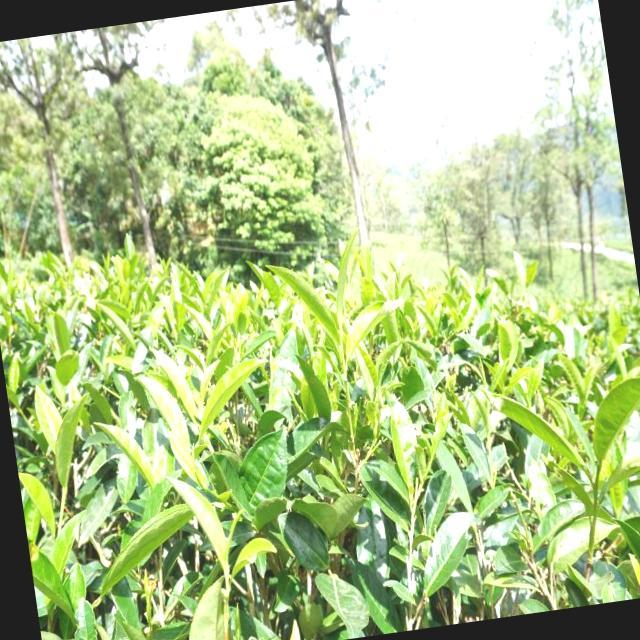Stem: (61, 489, 65, 509), (593, 487, 597, 500)
